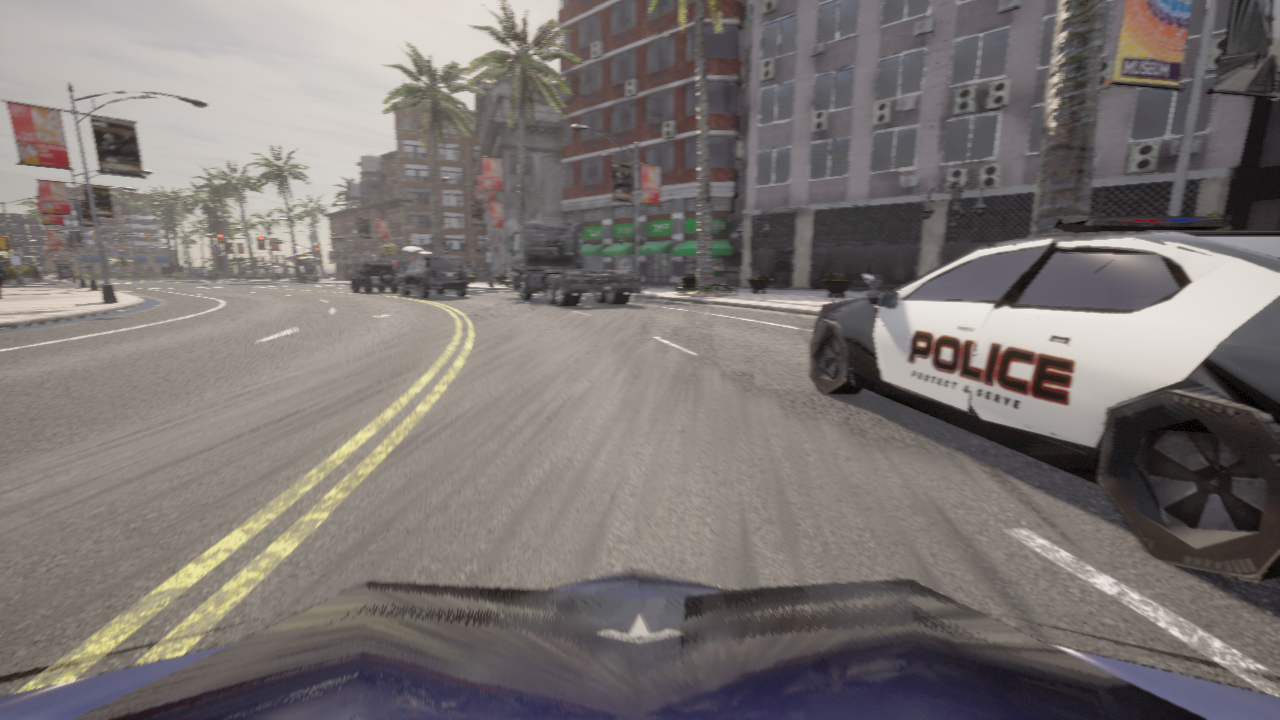cyclist: (0, 569, 1279, 719), (809, 216, 1279, 581), (507, 223, 638, 306), (399, 256, 468, 298), (351, 263, 398, 292), (243, 274, 244, 276)
